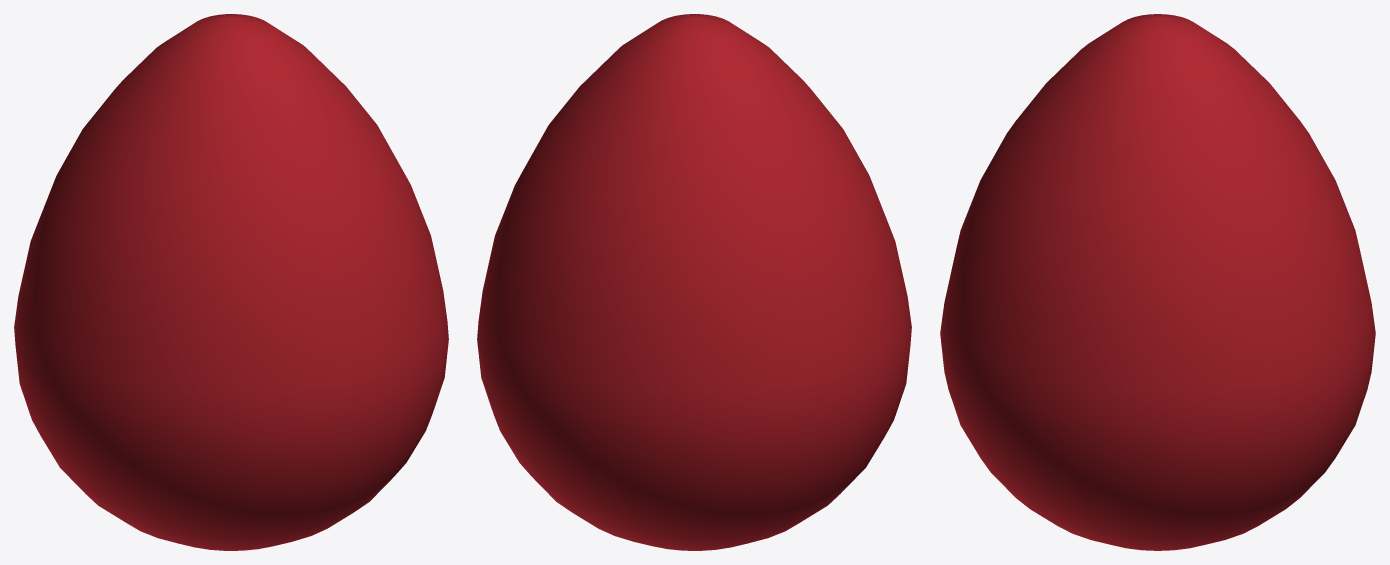
Rendered from Health_Egg 1.FBX.
3 renders of one model, left to right at view 1: azimuth 30°, elevation 25°; view 2: azimuth 150°, elevation 25°; view 3: azimuth 270°, elevation 25°, orthographic.
Parts seen in each view (by area): view 1: Sphere001; view 2: Sphere001; view 3: Sphere001.
Part boxes in pixels (<box>): Sphere001: <box>14,14,448,550</box>; Sphere001: <box>477,14,911,550</box>; Sphere001: <box>940,14,1375,550</box>.
Bounding box in the file's own units: 37.47 × 48.66 × 37.47.
Materials: 1 (1 with a texture image).
